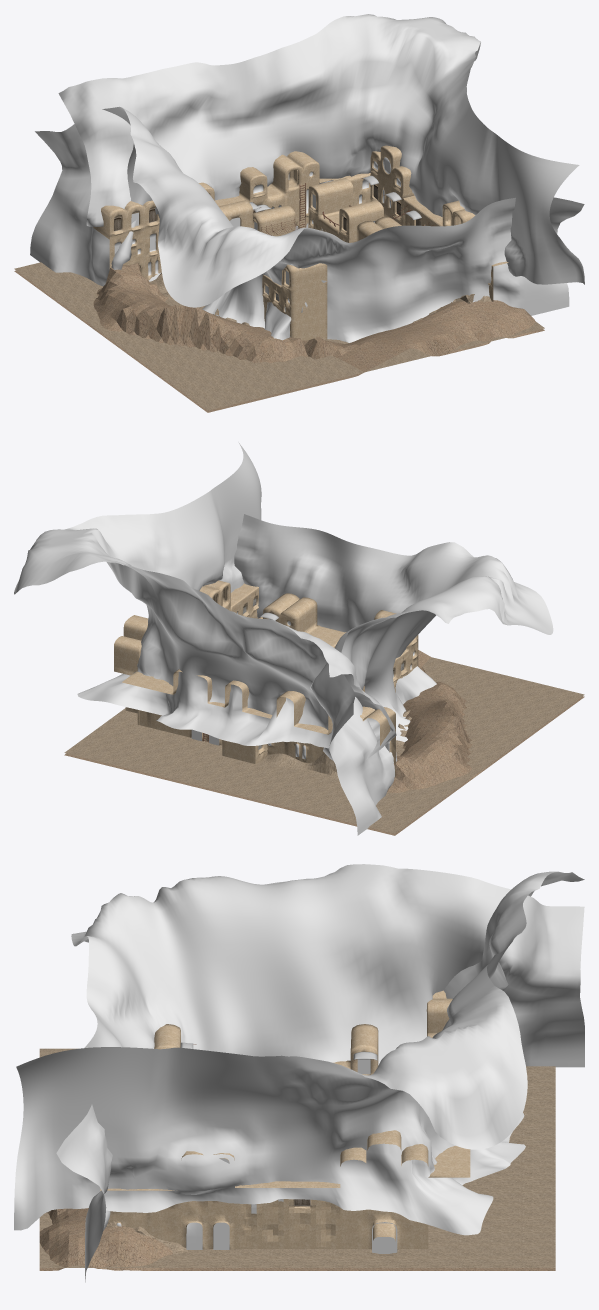
File: adobe_01.fbx
3 renders of one model, top to bottom at view 1: azimuth 30°, elevation 25°; view 2: azimuth 150°, elevation 25°; view 3: azimuth 270°, elevation 25°, orthographic. The views are drawn at different scales.
Visible parts, largest first — view 1: Cliff Mesh, ADOBE 01 BUILDINGS, Cracked Soil, Debree, WOOD WINDOWS, Metal & Metal Roofs; view 2: Cliff Mesh, Debree, ADOBE 01 BUILDINGS, Cracked Soil; view 3: Cliff Mesh, Debree, ADOBE 01 BUILDINGS, Cracked Soil, WOOD WINDOWS.
Boxes of the visible parts, bbox=[...] form: Cliff Mesh: bbox=[30, 14, 584, 342]; ADOBE 01 BUILDINGS: bbox=[93, 145, 508, 340]; Cracked Soil: bbox=[14, 263, 544, 412]; Debree: bbox=[14, 262, 544, 410]; WOOD WINDOWS: bbox=[114, 173, 420, 301]; Metal & Metal Roofs: bbox=[249, 175, 421, 235]; Cliff Mesh: bbox=[14, 442, 553, 835]; Debree: bbox=[64, 618, 584, 833]; ADOBE 01 BUILDINGS: bbox=[114, 580, 418, 776]; Cracked Soil: bbox=[64, 650, 584, 835]; Cliff Mesh: bbox=[14, 864, 584, 1282]; Debree: bbox=[39, 1048, 555, 1267]; ADOBE 01 BUILDINGS: bbox=[100, 990, 470, 1249]; Cracked Soil: bbox=[39, 1208, 555, 1270]; WOOD WINDOWS: bbox=[186, 1059, 397, 1253].
Size of the model in its own units: 65.76 by 32.25 by 58.13.
